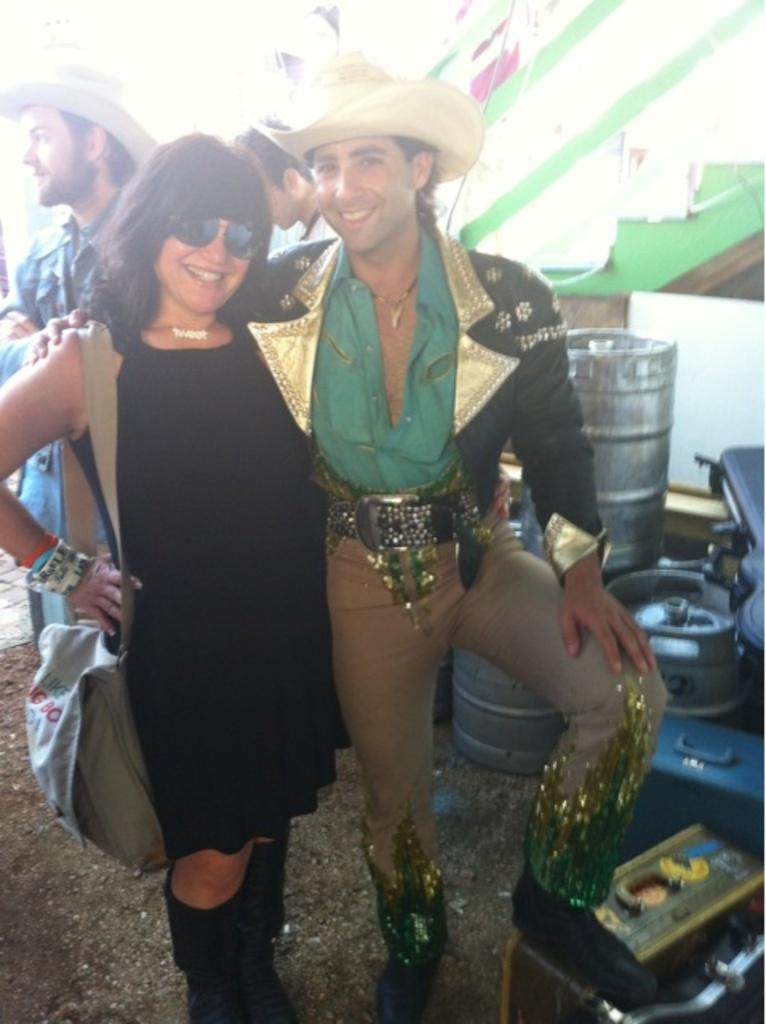Hat: (243, 50, 481, 184), (0, 61, 159, 163)
